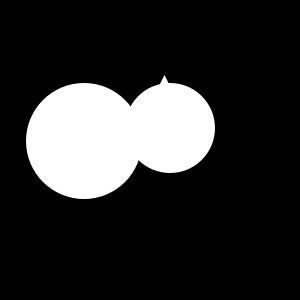rectangle: (26, 83, 142, 199), (125, 83, 215, 173)
triangle: (154, 75, 175, 96)
